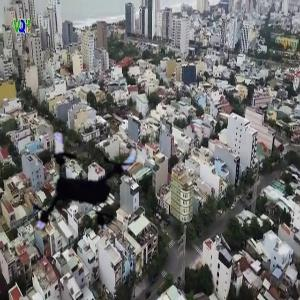drone: (17, 114, 148, 245)
